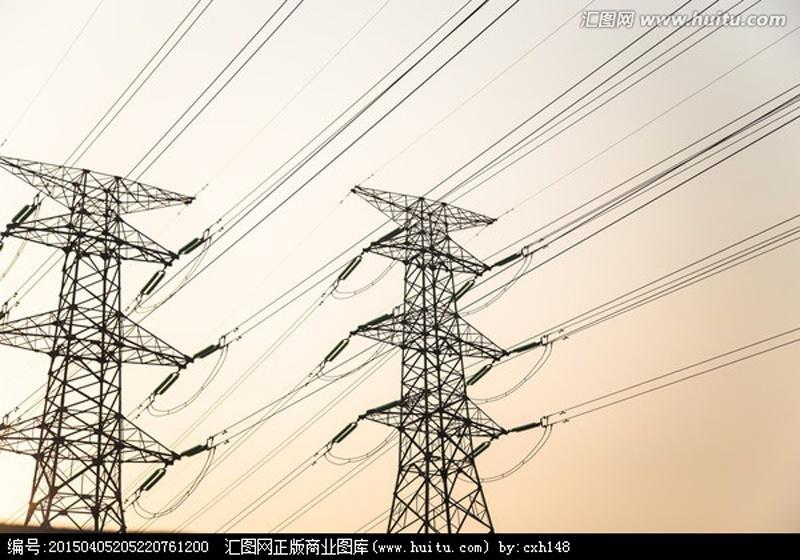power_tower: (0, 136, 238, 532), (316, 167, 572, 534)
